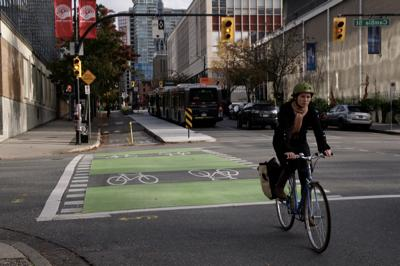With Helmet: (291, 80, 316, 109)
